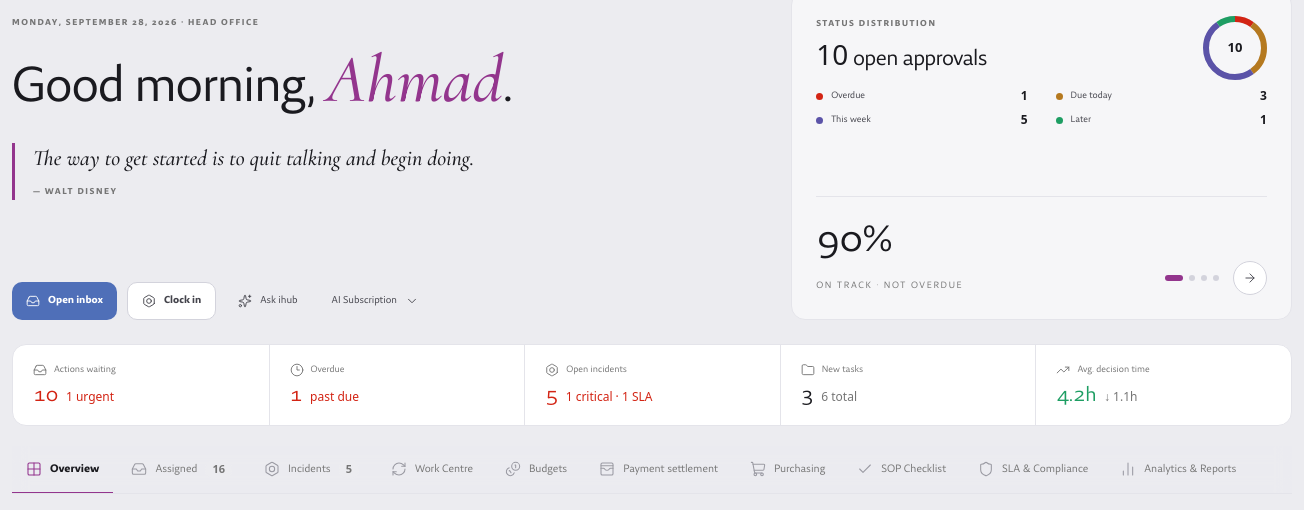
HomeTopBanner › opens and closes the exact AI provider menu
Click the button "AI Subscription" at coordinates (375, 301), box [320,282,431,320]
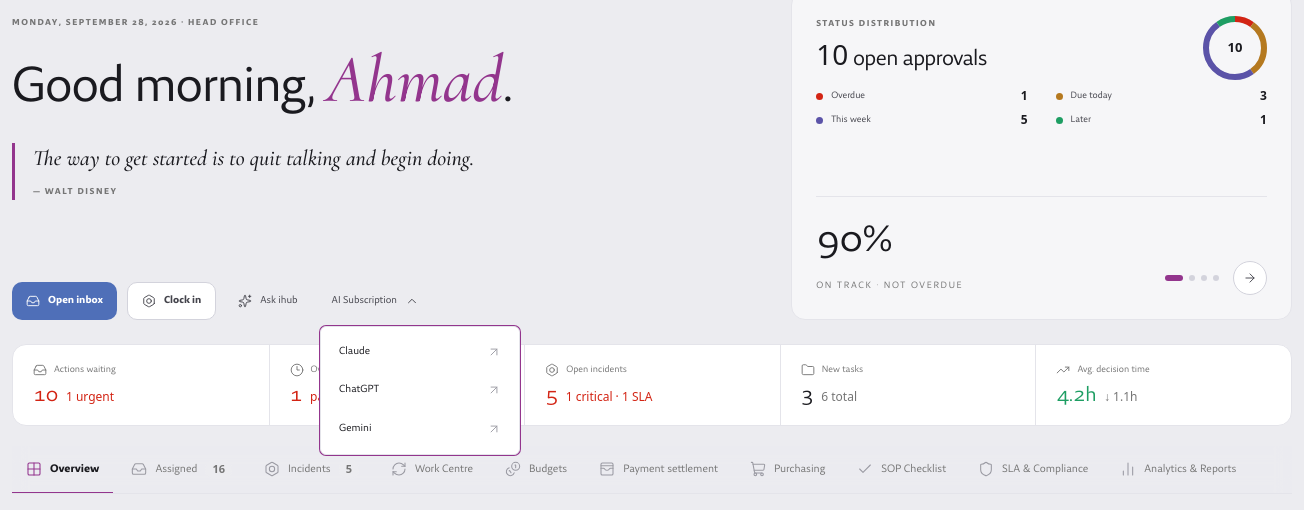
Press Escape
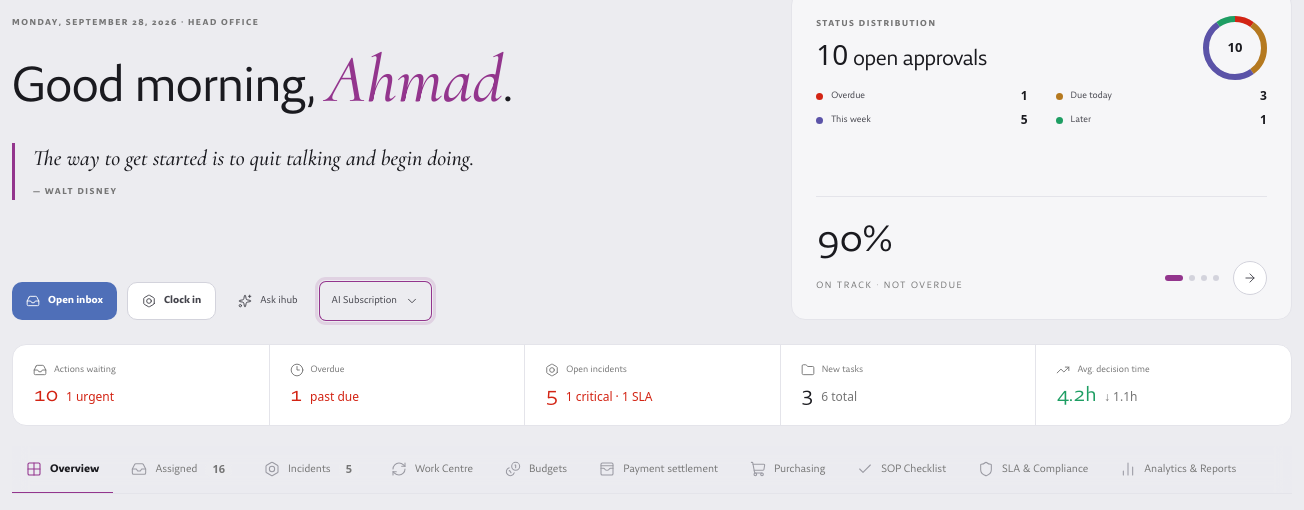
Expected: the menu item "Claude" is gone
